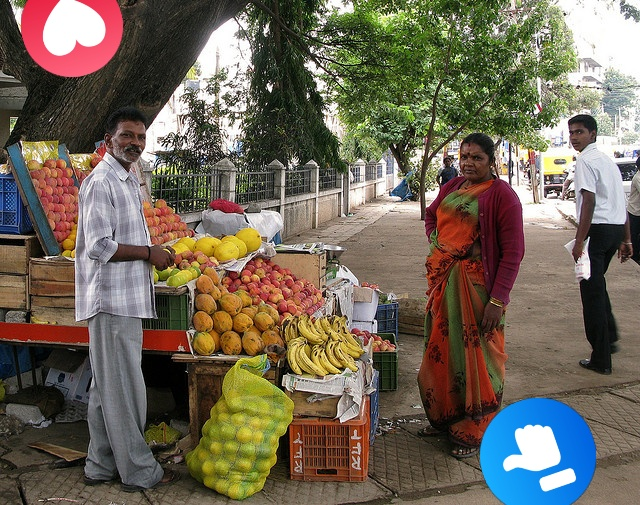like: (480, 398, 596, 505)
love: (21, 0, 123, 77)
